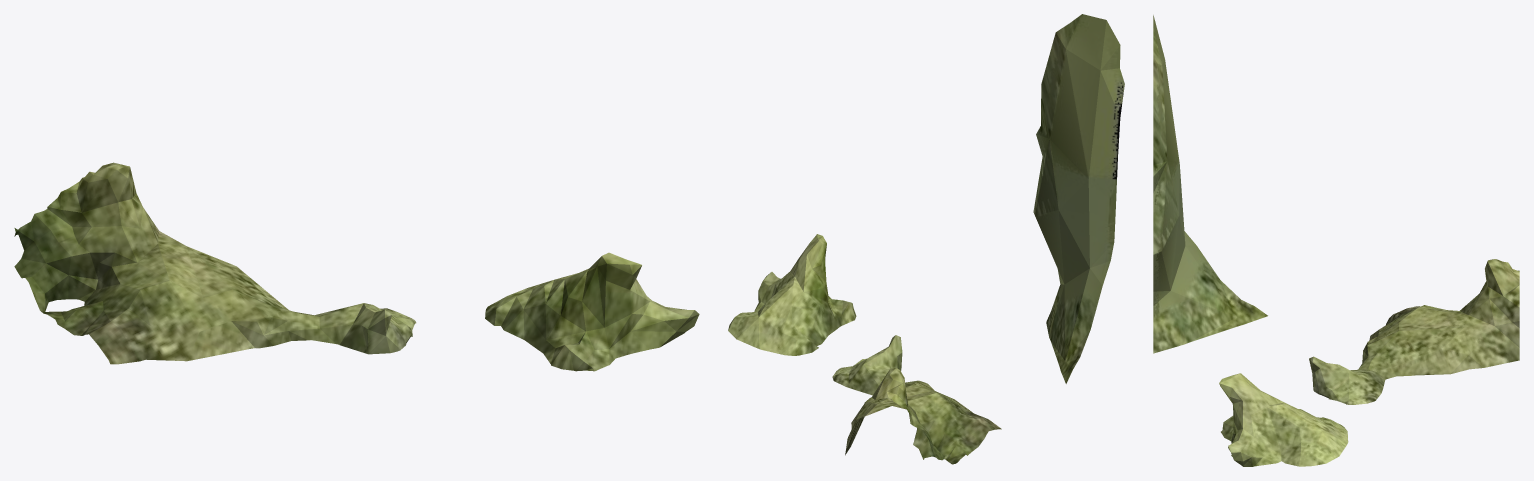
The picture shows the model from 3 angles, left to right: view 1: azimuth 30°, elevation 25°; view 2: azimuth 150°, elevation 25°; view 3: azimuth 270°, elevation 25°; orthographic projection. The views are drawn at different scales.
Size of the model in its own units: 5.82 by 5.52 by 5.9.
2 materials, 2 textured.
